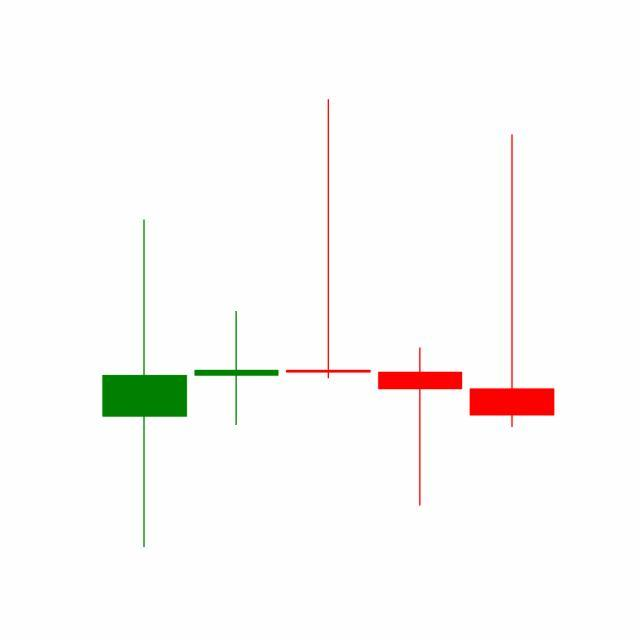Spinning Top: (374, 347, 468, 509)
